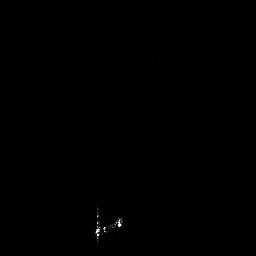ship: (92, 203, 128, 246)
